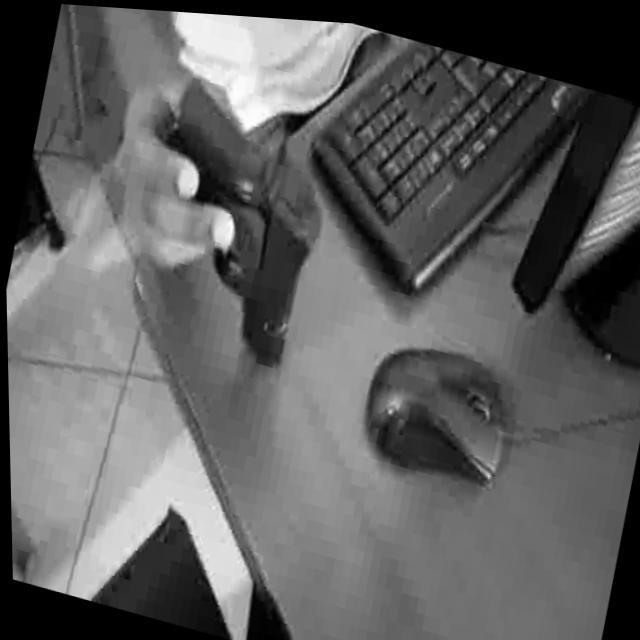weapon: (126, 66, 344, 364)
